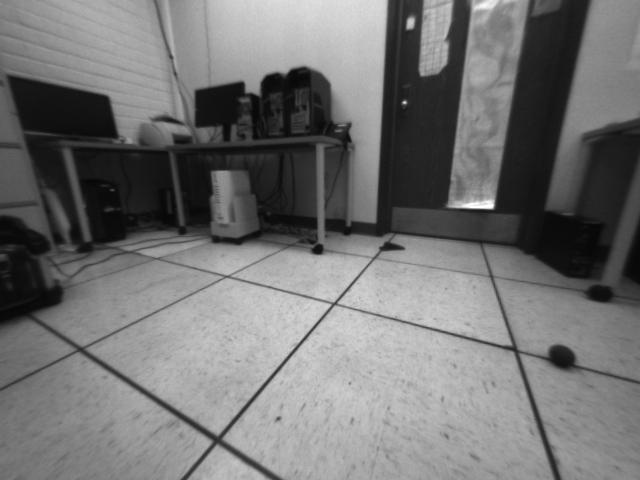dogtoy: (543, 335, 585, 380)
